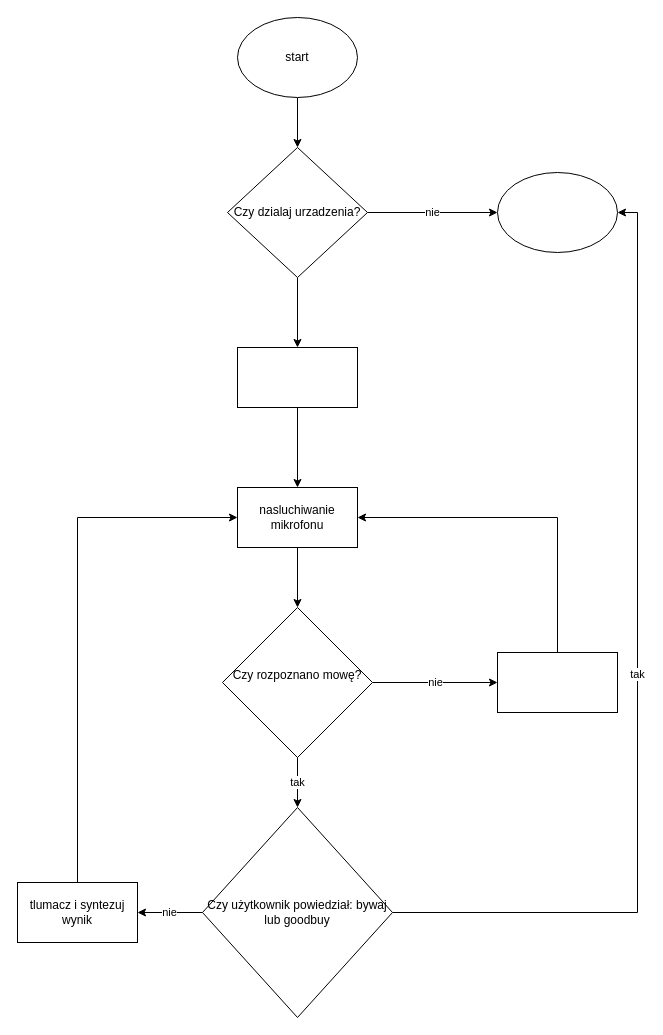
The diagram is 663 pixels wide and 1035 high, and some of its shapes have lost their labels. The shapes that lost their labels are listed below. From the top down, each one's box as (x1, y1, x2, y2) in pixels, then its label:
(496, 172, 618, 252): koniec
(236, 346, 358, 408): ustaw jezyk tlumaczenia
(496, 652, 618, 712): komunikat "Nie rozumiem"
